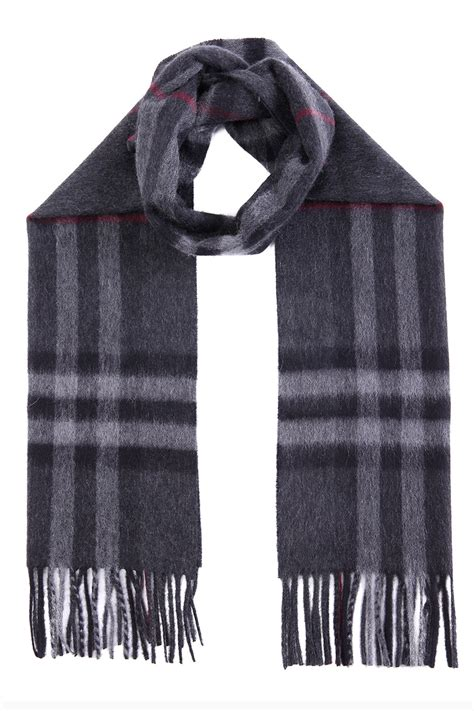flexible: (24, 32, 460, 670)
